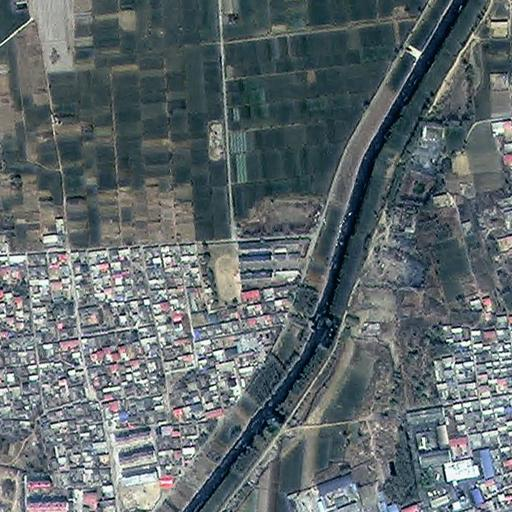school: (206, 238, 309, 303)
